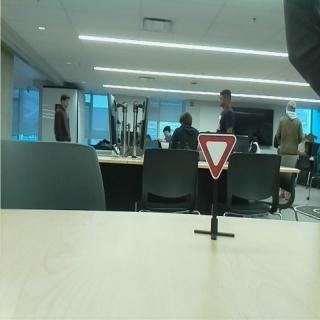sign_yield: (198, 133, 238, 181)
